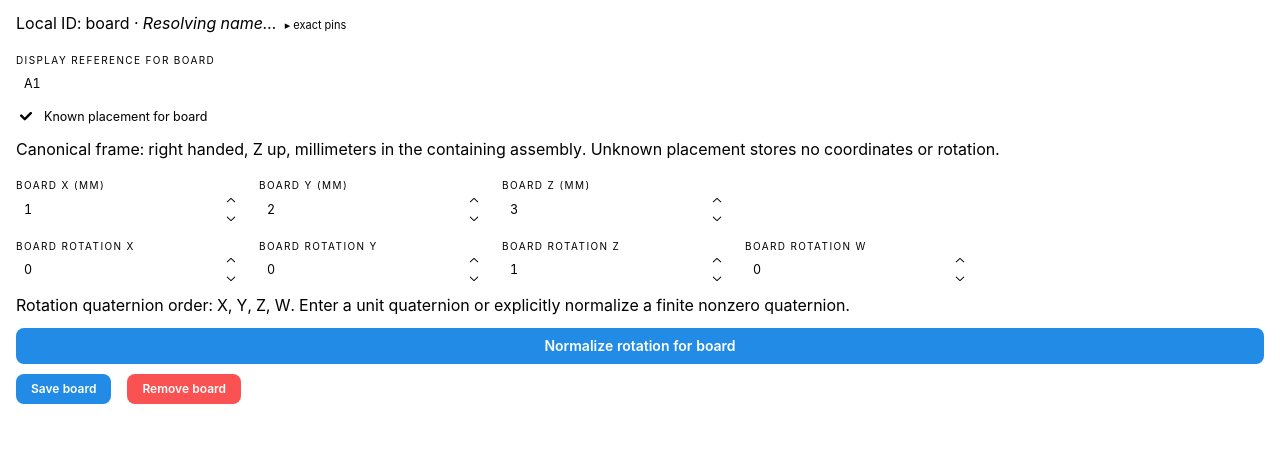
Test: an erased coordinate cannot silently become zero
Clear the field labelled "board Z (mm)": coordinates (616, 209) [502, 196, 729, 222]
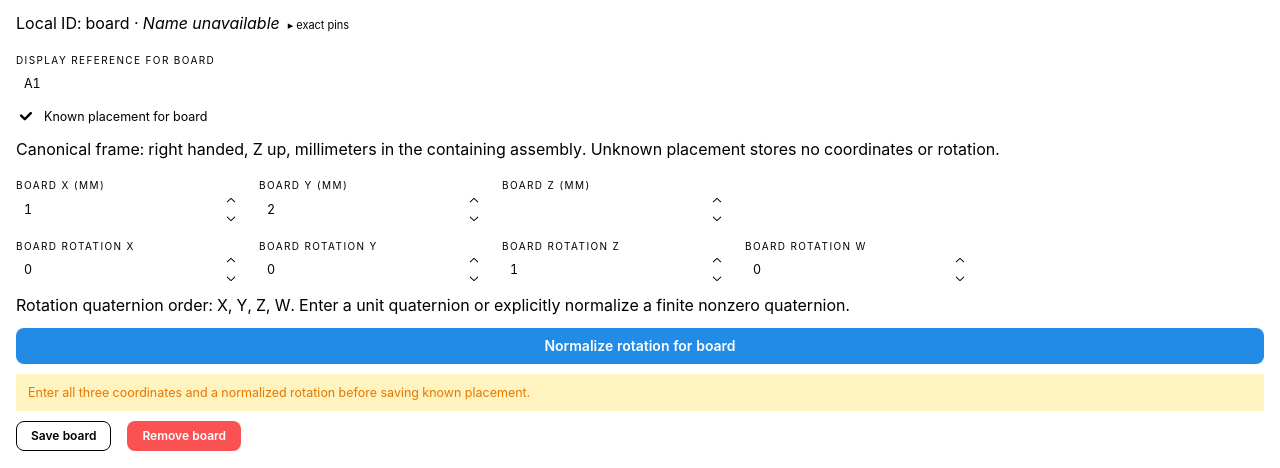
Result: the button "Save board" is disabled at [16, 421, 111, 451]
